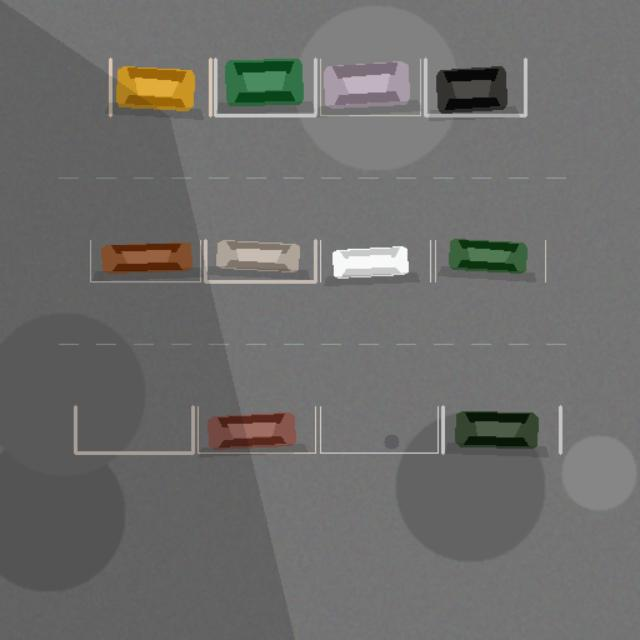space-empty: (320, 406, 438, 452), (75, 406, 192, 452)
space-occupied: (110, 59, 210, 115), (215, 59, 315, 115), (320, 59, 420, 115), (425, 59, 525, 115), (442, 406, 560, 452), (198, 406, 315, 452), (90, 240, 200, 281), (205, 240, 315, 281), (320, 240, 430, 281), (435, 240, 545, 281)
